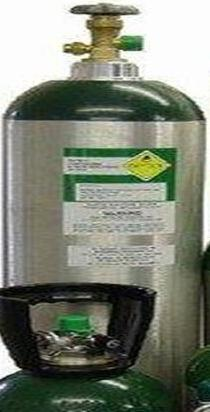cylinder: (1, 1, 210, 412)
